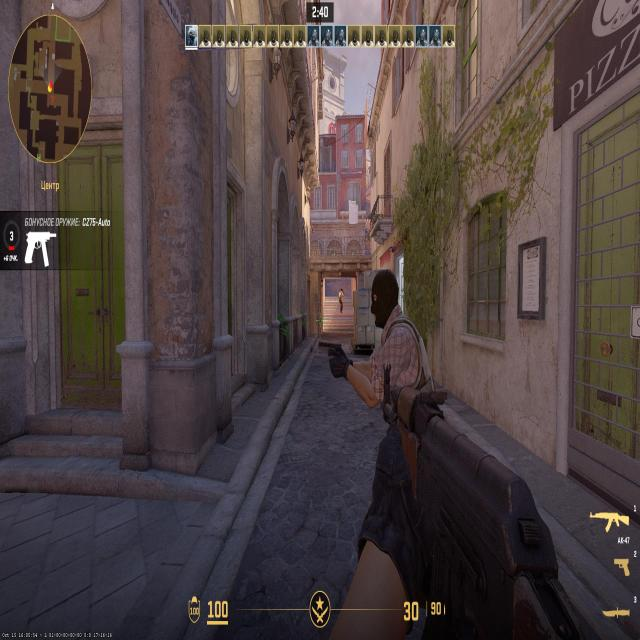T: (372, 277, 421, 380), (340, 287, 344, 312)
T_heat: (377, 285, 395, 316), (340, 288, 342, 296)
